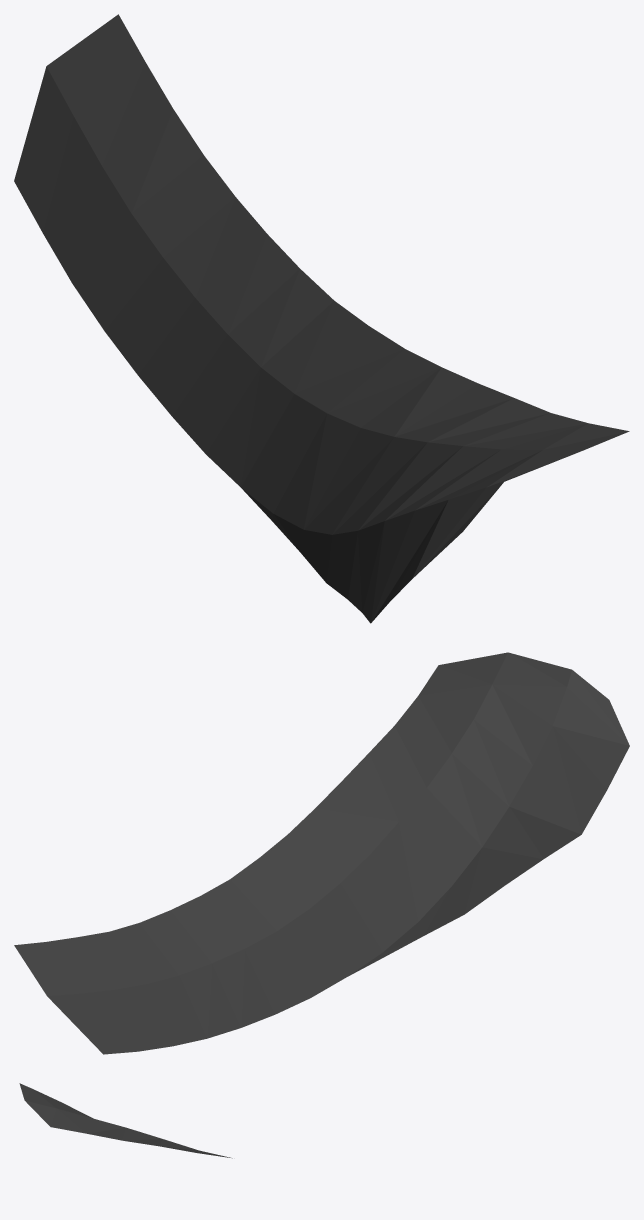
Rendered from Humerus_crest_of_lesser_tubercle.glb.
The picture shows the model from 3 angles, top to bottom: view 1: azimuth 30°, elevation 25°; view 2: azimuth 150°, elevation 25°; view 3: azimuth 270°, elevation 25°; orthographic projection. The views are drawn at different scales.
Visible parts, largest first — view 1: Humerus_crest_of_lesser_tubercle; view 2: Humerus_crest_of_lesser_tubercle; view 3: Humerus_crest_of_lesser_tubercle.
Part boxes in pixels (x1=…): Humerus_crest_of_lesser_tubercle: x1=14, y1=14, x2=629, y2=623; Humerus_crest_of_lesser_tubercle: x1=14, y1=652, x2=629, y2=1054; Humerus_crest_of_lesser_tubercle: x1=19, y1=1083, x2=232, y2=1158.
Size of the model in its own units: 0.1101 by 0.086 by 0.4053.
Materials: 1 (1 with a texture image).
